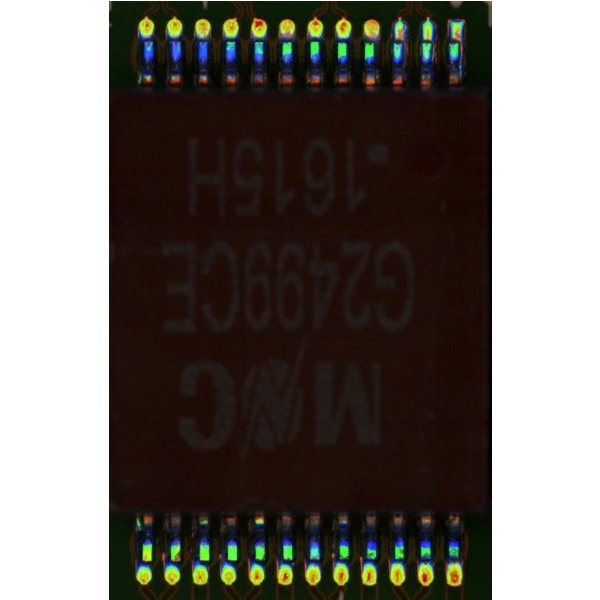Bad_podu: (452, 28, 460, 48), (424, 28, 431, 47), (395, 31, 402, 49)
Bad_qiaojiao: (459, 41, 464, 77)
